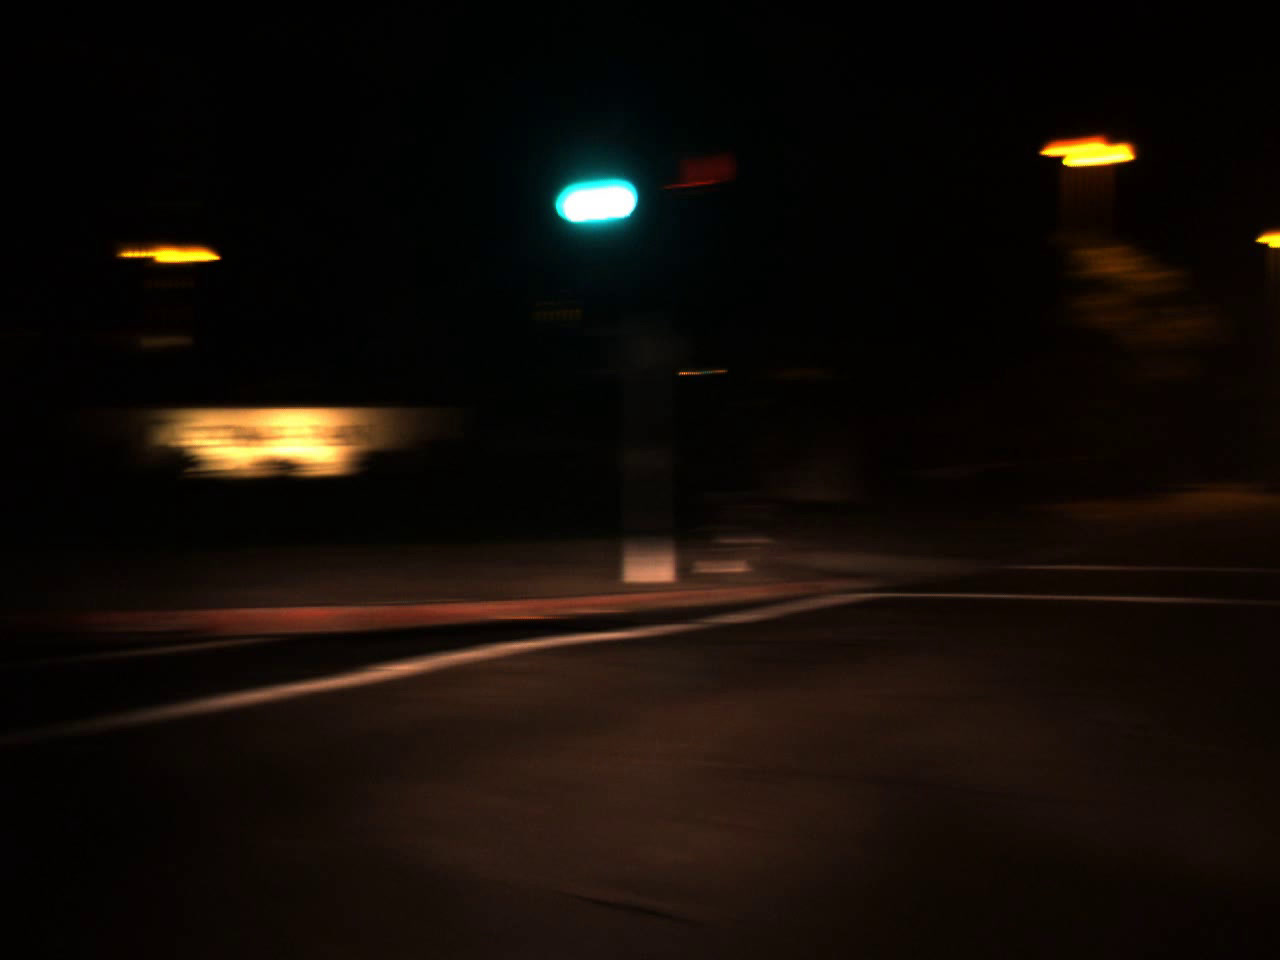go: (539, 133, 654, 235)
